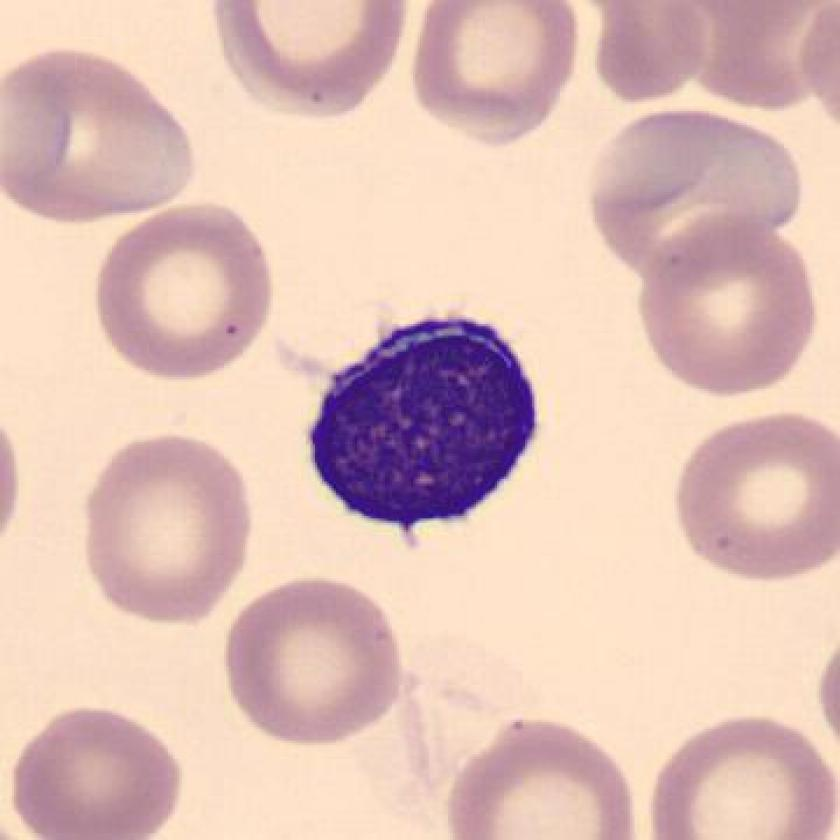lymphocyte: (288, 290, 559, 547)
